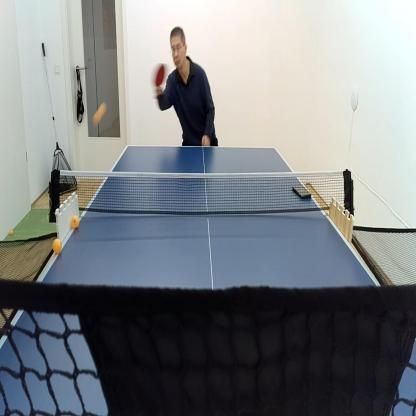Ball: (91, 100, 108, 126), (52, 237, 62, 255), (70, 213, 80, 230), (9, 228, 14, 236)
